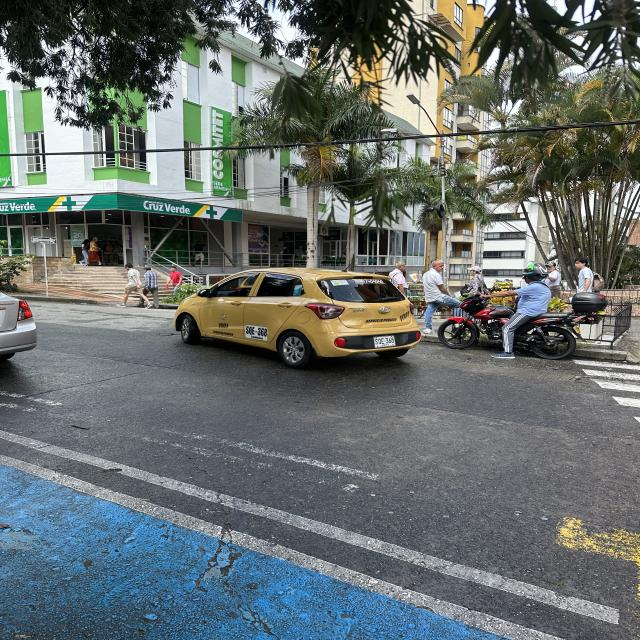number plate: (244, 324, 268, 341), (373, 335, 396, 348)
